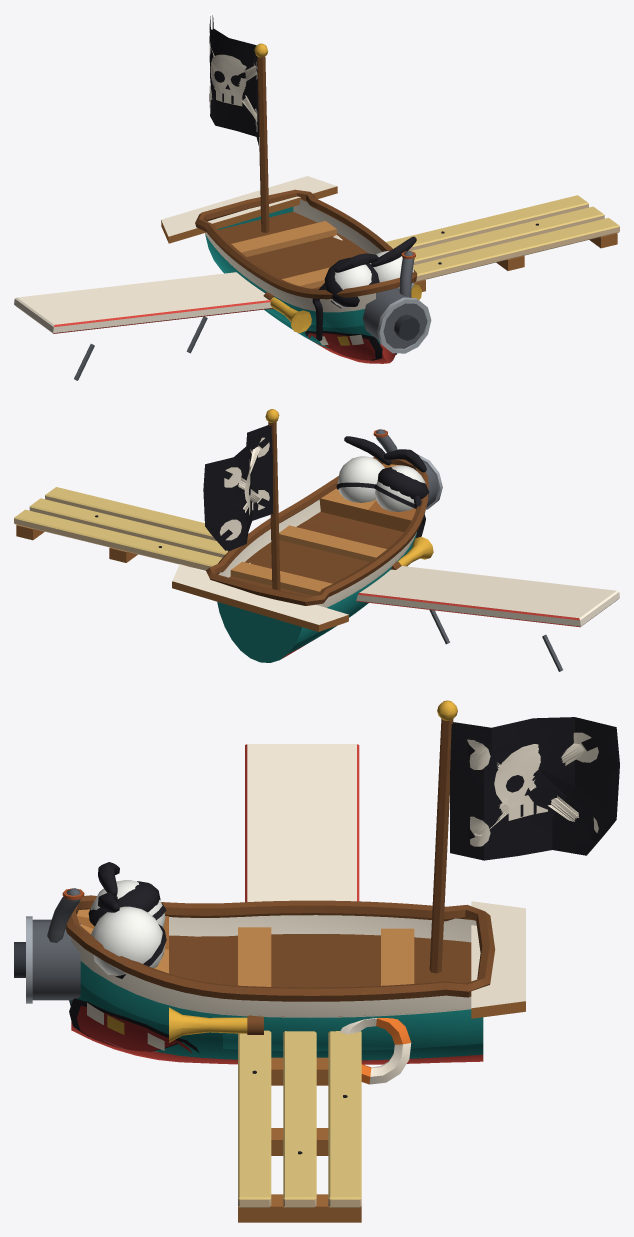
The model's file is PirataBarca.fbx.
3 views of the same model, one above another, from view 1: azimuth 30°, elevation 25°; view 2: azimuth 150°, elevation 25°; view 3: azimuth 270°, elevation 25° (orthographic). The views are drawn at different scales.
Parts seen in each view (by area): view 1: PirataBarca; view 2: PirataBarca; view 3: PirataBarca.
Boxes of the visible parts, x1,y1,x2,y2 form: PirataBarca: (14,15,619,380); PirataBarca: (14,409,619,671); PirataBarca: (14,700,619,1222).
Size of the model in its own units: 20.04 by 8.24 by 12.72.
1 material, 1 textured.
